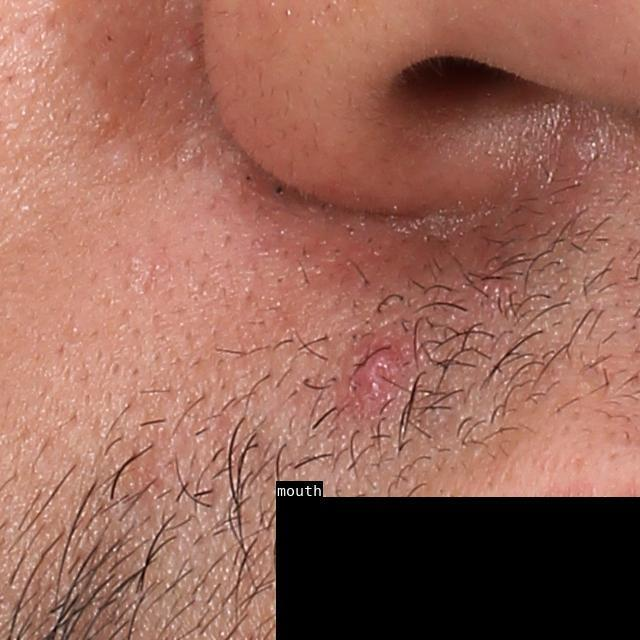papule: (348, 335, 412, 418)
